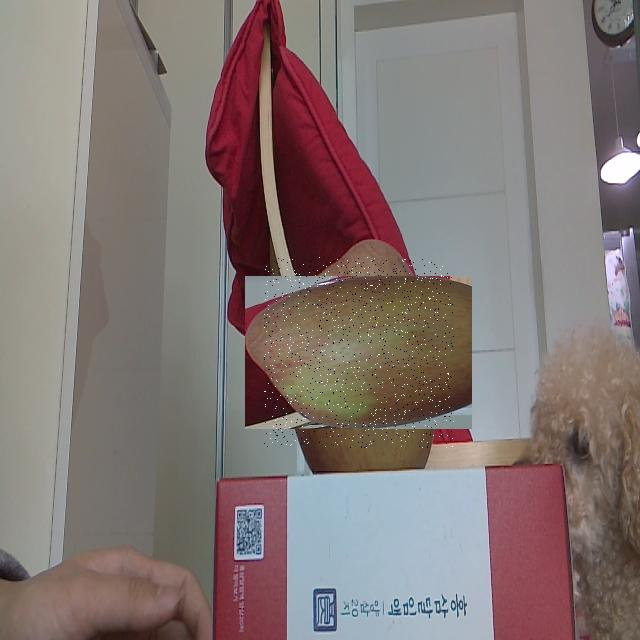apple: (264, 257, 454, 448)
